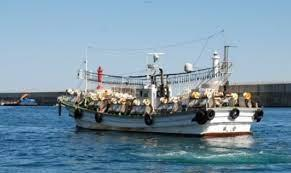Ship: (54, 45, 273, 143)
